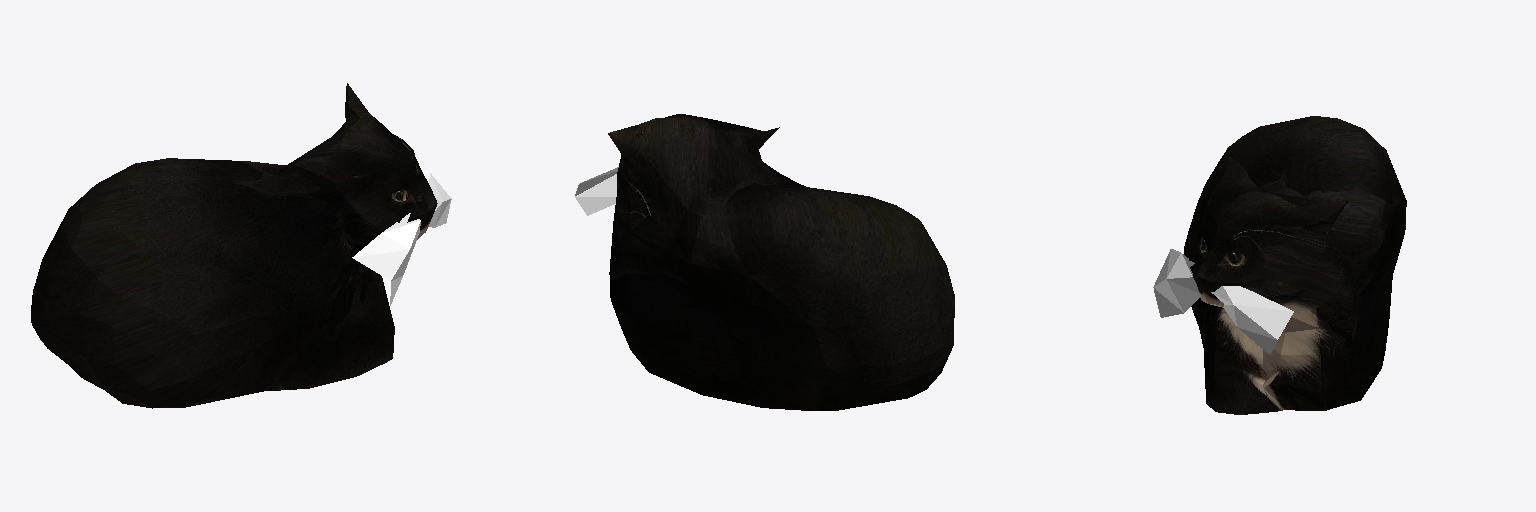
3 views of the same model, side by side, from view 1: azimuth 30°, elevation 25°; view 2: azimuth 150°, elevation 25°; view 3: azimuth 270°, elevation 25° (orthographic).
Visible parts, largest first — view 1: obj1, obj2; view 2: obj1, obj2; view 3: obj1, obj2.
Part boxes in pixels (bbox=[...]): obj1: bbox=[31, 83, 437, 408]; obj2: bbox=[352, 173, 451, 305]; obj1: bbox=[608, 114, 954, 410]; obj2: bbox=[575, 167, 618, 215]; obj1: bbox=[1184, 116, 1406, 414]; obj2: bbox=[1153, 249, 1293, 354].
Bounding box in the file's own units: 33.23 × 19.21 × 18.75.
Materials: 2 (1 with a texture image).